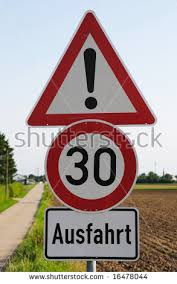Speed_limit_30km: (44, 122, 138, 212)
